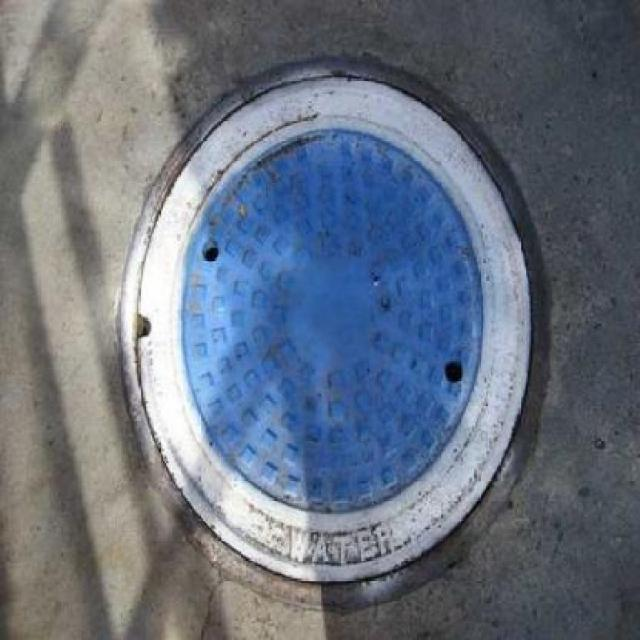Manhole: (108, 40, 554, 608)
